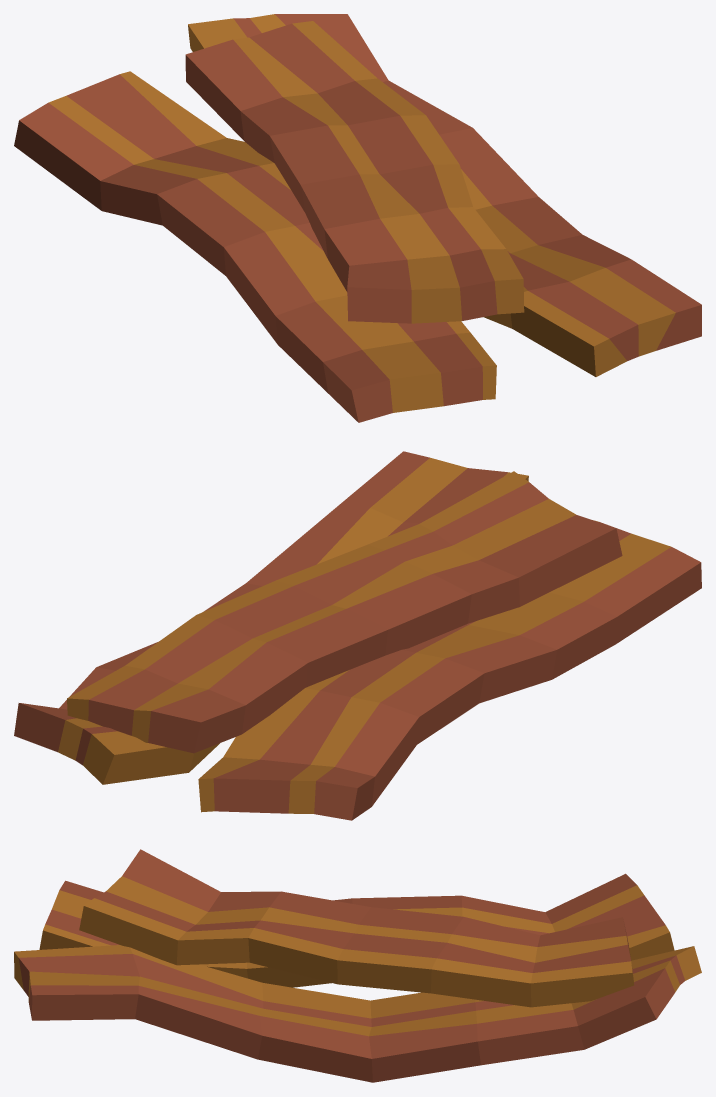
Rendered from Bacon.glb.
3 views of the same model, one above another, from view 1: azimuth 30°, elevation 25°; view 2: azimuth 150°, elevation 25°; view 3: azimuth 270°, elevation 25° (orthographic). The views are drawn at different scales.
Parts seen in each view (by area): view 1: Bacon; view 2: Bacon; view 3: Bacon.
Boxes of the visible parts, x1,y1,x2,y2 form: Bacon: (14, 14, 701, 422); Bacon: (14, 451, 701, 820); Bacon: (14, 849, 701, 1082).
Size of the model in its own units: 0.0873 by 0.0281 by 0.1703.
